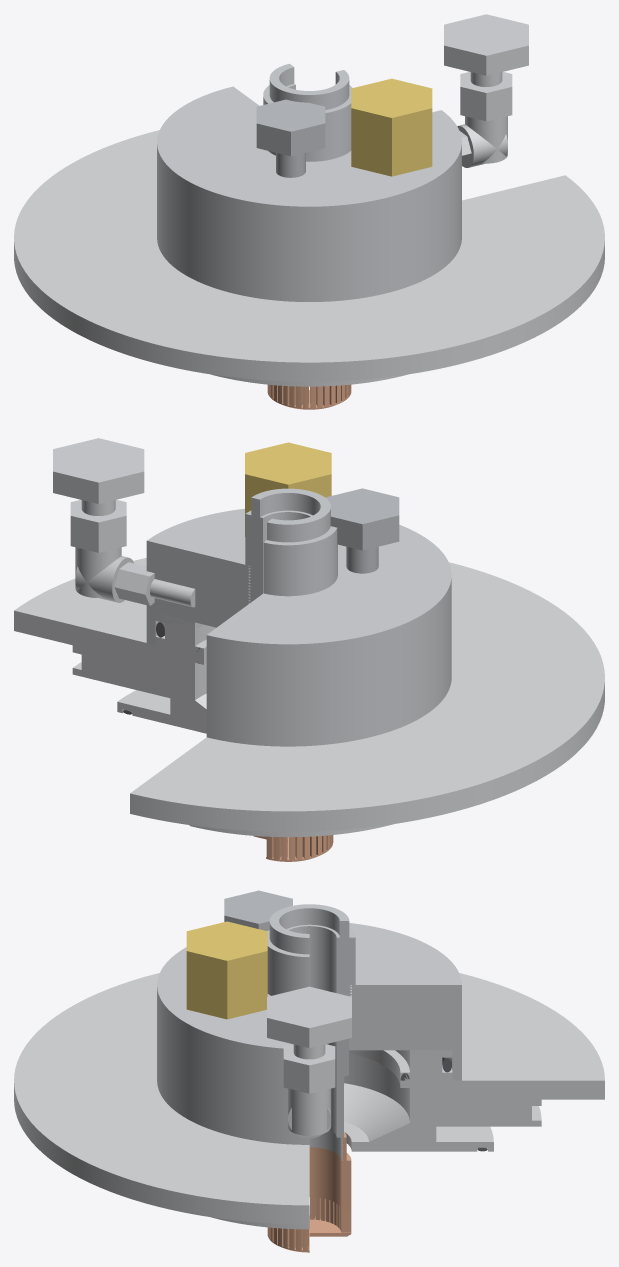
Rendered from pintle_injector_cutaway.glb.
The picture shows the model from 3 angles, top to bottom: view 1: azimuth 30°, elevation 25°; view 2: azimuth 150°, elevation 25°; view 3: azimuth 270°, elevation 25°; orthographic projection. The views are drawn at different scales.
Visible parts, largest first — view 1: Injector_Baseplate, Upper_Manifold_Housing, Side_Elbow_Feed_Fitting, Brass_Chamber_Port_Fitting, Instrumentation_And_Bolts, Top_Center_Inlet_Fitting, Copper_Pintle_Tip; view 2: Injector_Baseplate, Upper_Manifold_Housing, Side_Elbow_Feed_Fitting, Top_Center_Inlet_Fitting, Instrumentation_And_Bolts, Brass_Chamber_Port_Fitting, Copper_Pintle_Tip; view 3: Injector_Baseplate, Upper_Manifold_Housing, Side_Elbow_Feed_Fitting, Top_Center_Inlet_Fitting, Brass_Chamber_Port_Fitting, Copper_Pintle_Tip, Instrumentation_And_Bolts, Steel_Centerbody.
Part boxes in pixels (bbox=[...]): Injector_Baseplate: bbox=[14, 130, 604, 386]; Upper_Manifold_Housing: bbox=[157, 86, 461, 301]; Side_Elbow_Feed_Fitting: bbox=[444, 14, 528, 167]; Brass_Chamber_Port_Fitting: bbox=[351, 78, 432, 176]; Instrumentation_And_Bolts: bbox=[256, 99, 325, 177]; Top_Center_Inlet_Fitting: bbox=[263, 63, 352, 161]; Copper_Pintle_Tip: bbox=[267, 384, 351, 409]; Injector_Baseplate: bbox=[14, 558, 604, 837]; Upper_Manifold_Housing: bbox=[146, 508, 451, 746]; Side_Elbow_Feed_Fitting: bbox=[53, 438, 195, 607]; Top_Center_Inlet_Fitting: bbox=[245, 488, 337, 602]; Instrumentation_And_Bolts: bbox=[325, 488, 399, 573]; Brass_Chamber_Port_Fitting: bbox=[245, 442, 331, 536]; Copper_Pintle_Tip: bbox=[253, 835, 333, 861]; Injector_Baseplate: bbox=[14, 973, 604, 1229]; Upper_Manifold_Housing: bbox=[157, 923, 461, 1144]; Side_Elbow_Feed_Fitting: bbox=[267, 986, 351, 1138]; Top_Center_Inlet_Fitting: bbox=[267, 904, 355, 1021]; Brass_Chamber_Port_Fitting: bbox=[186, 921, 267, 1019]; Copper_Pintle_Tip: bbox=[267, 1132, 351, 1252]; Instrumentation_And_Bolts: bbox=[224, 890, 292, 930]; Steel_Centerbody: bbox=[309, 1038, 348, 1160].
Size of the model in its own units: 180 by 106 by 180.
